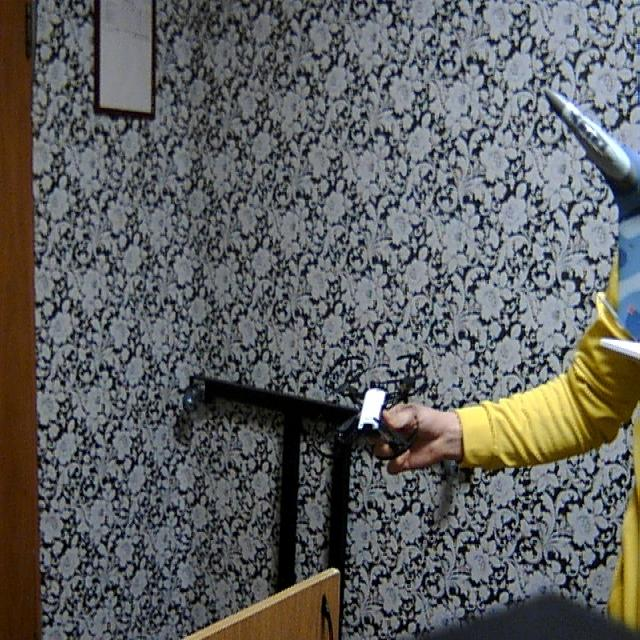drone: (301, 349, 440, 478)
